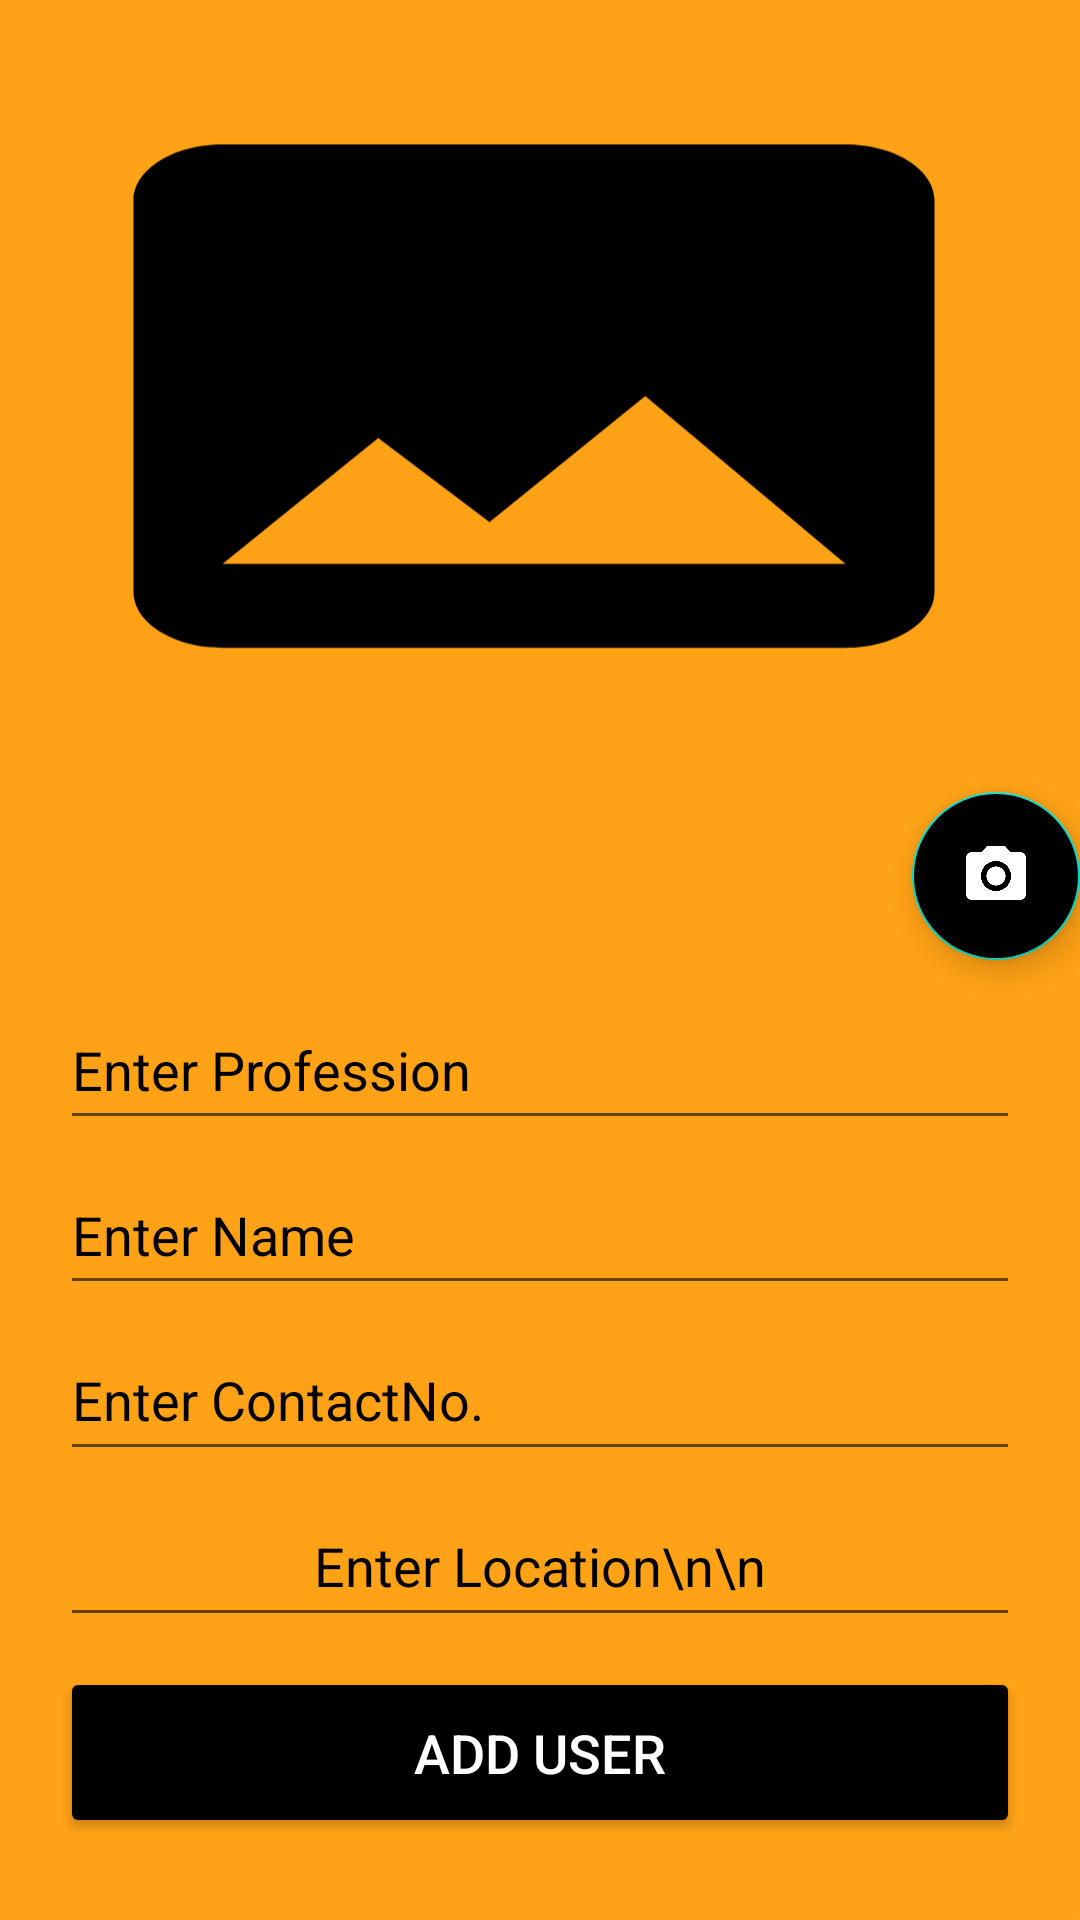

Named icons in this screenshot (1080px x 1920px) and their centers, (x=x, y=y):
photo camera: (x=996, y=876)
